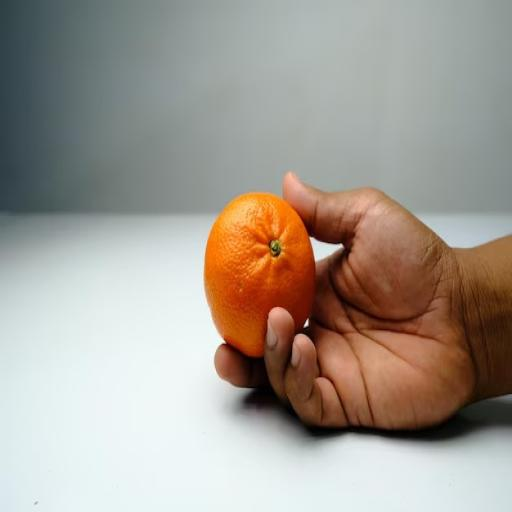orange: (204, 193, 315, 357)
